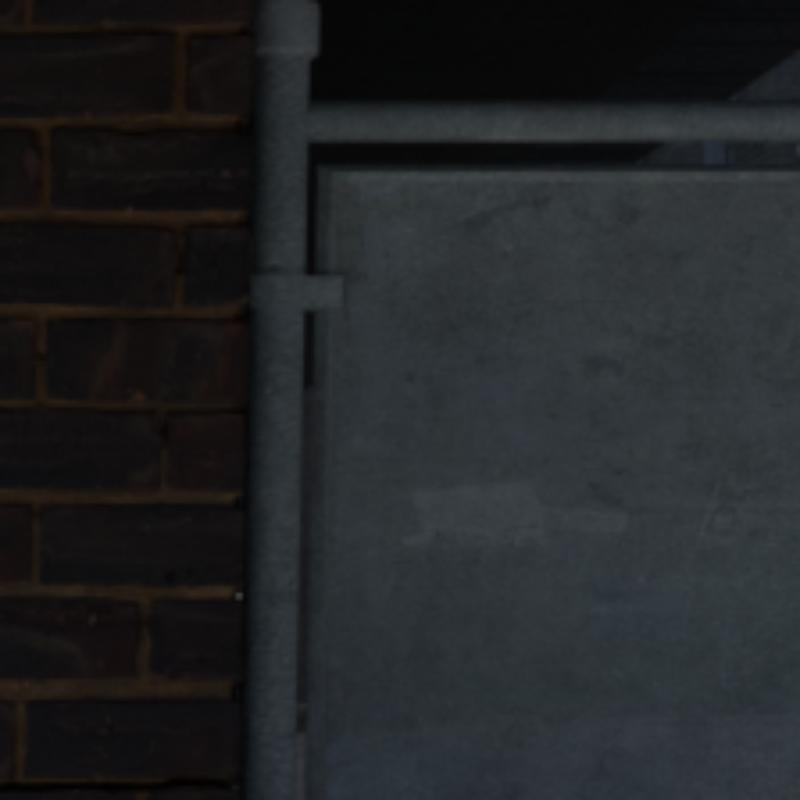pothole: (0, 775, 225, 789)
